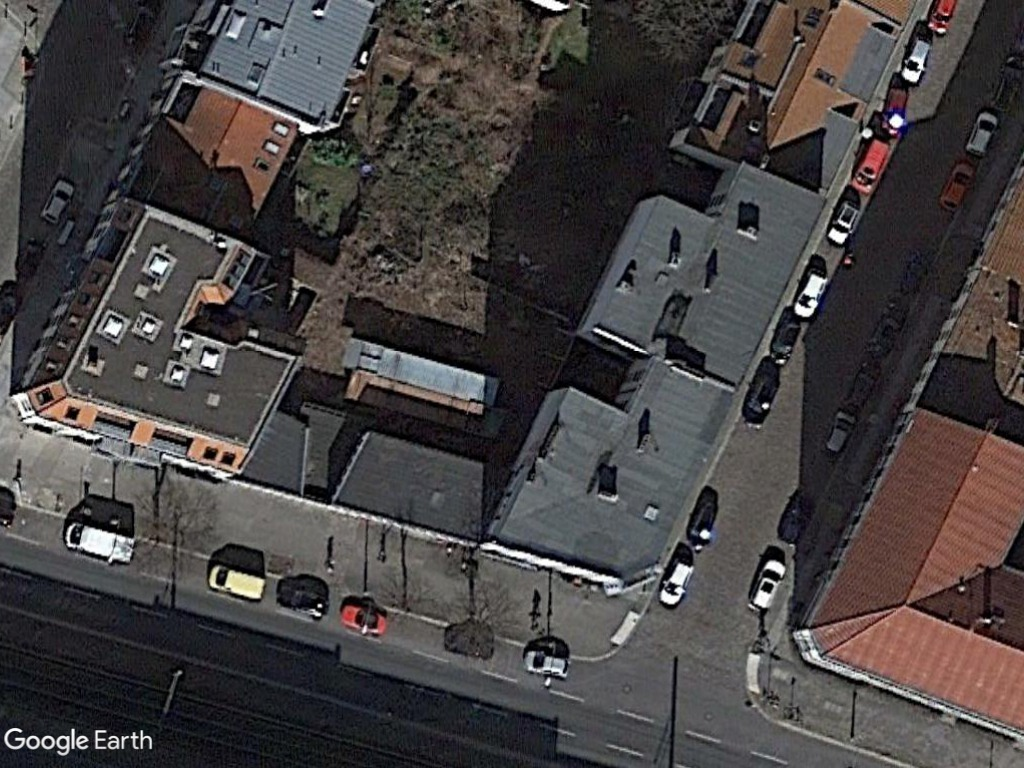car: (787, 264, 837, 322), (746, 553, 792, 616), (32, 174, 80, 229), (653, 553, 700, 609), (818, 406, 862, 461), (823, 194, 866, 250), (336, 600, 392, 642), (935, 159, 980, 210), (892, 34, 935, 87), (518, 643, 575, 682), (961, 107, 1001, 160)
van: (63, 519, 142, 568), (845, 131, 897, 194), (204, 558, 271, 606)
